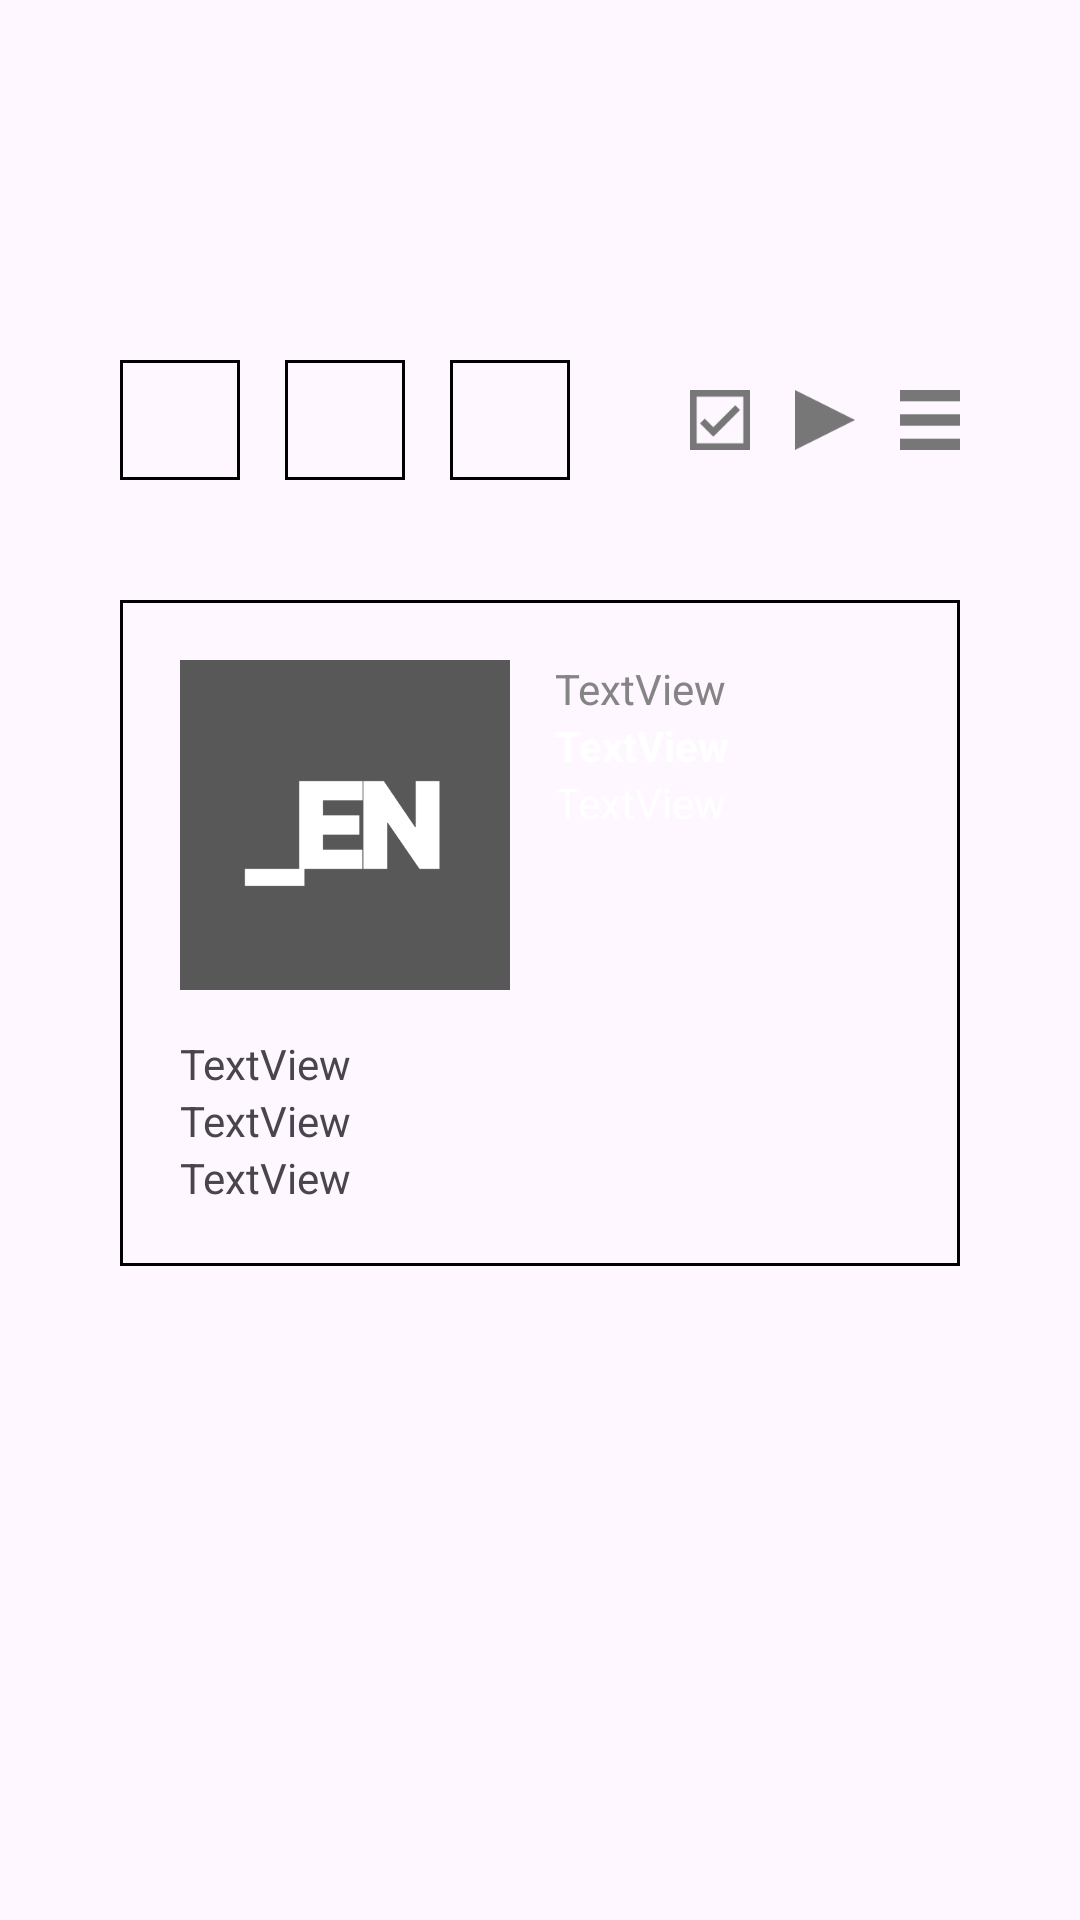

Icon click points for this 1080*1920 phone screenshot, format [x,y]:
check: [720,420]
menu: [930,420]
play: [825,420]
